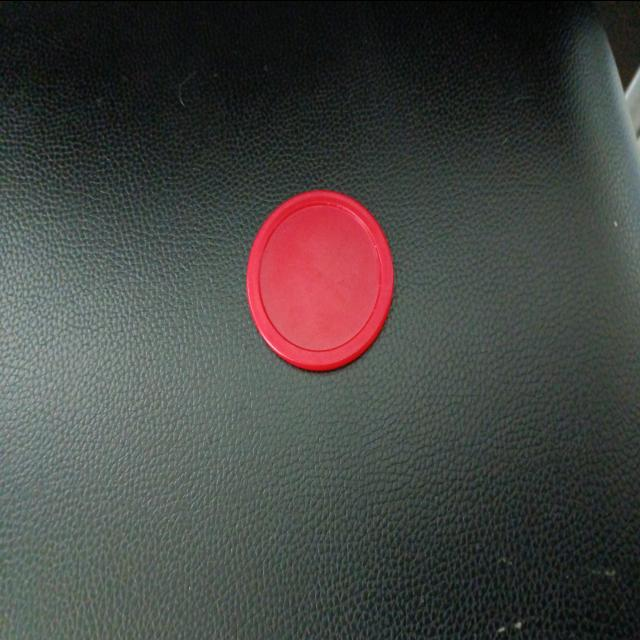chip: (244, 185, 396, 374)
